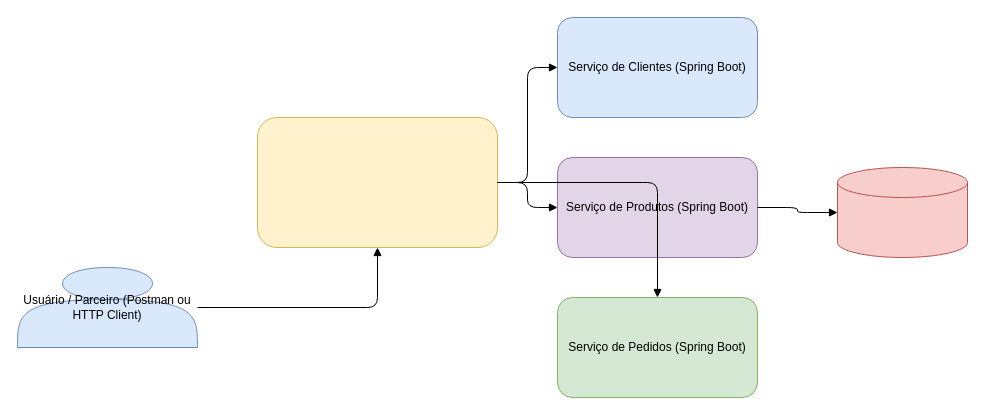
Image size: 985x415. Some labels were removed from this diagram. Each missing label, with the box of its shape:
Banco H2 (Local): (836, 166, 968, 258)
Gateway de API (Spring Boot REST): (256, 116, 498, 248)
